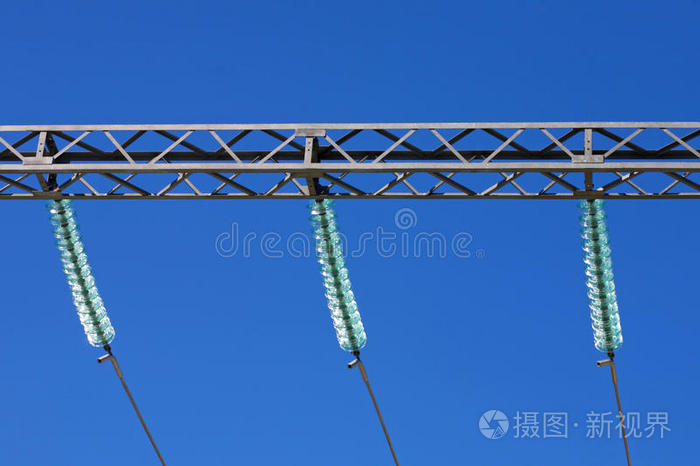insulator: (49, 197, 116, 346), (308, 196, 367, 349), (577, 198, 626, 354)
